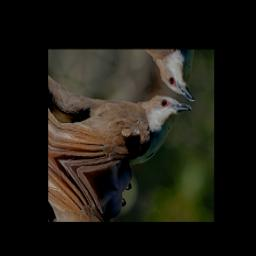Cuckoo: (48, 52, 192, 211)
